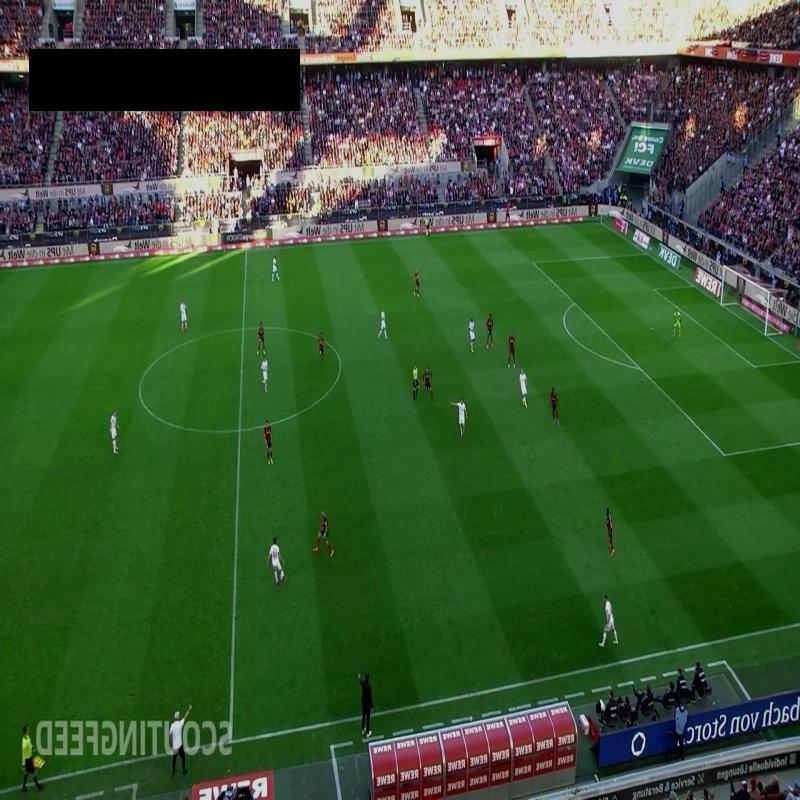1: (593, 216, 607, 230)
10: (566, 296, 581, 310)
11: (632, 360, 646, 374)
12: (717, 448, 731, 462)
13: (240, 244, 253, 258)
14: (237, 320, 251, 334)
15: (234, 422, 247, 436)
16: (216, 728, 245, 754)
2: (638, 245, 652, 259)
3: (686, 278, 700, 292)
7: (648, 281, 662, 295)
8: (748, 358, 762, 372)
9: (527, 256, 541, 270)
c: (332, 353, 347, 370), (134, 382, 148, 396)
